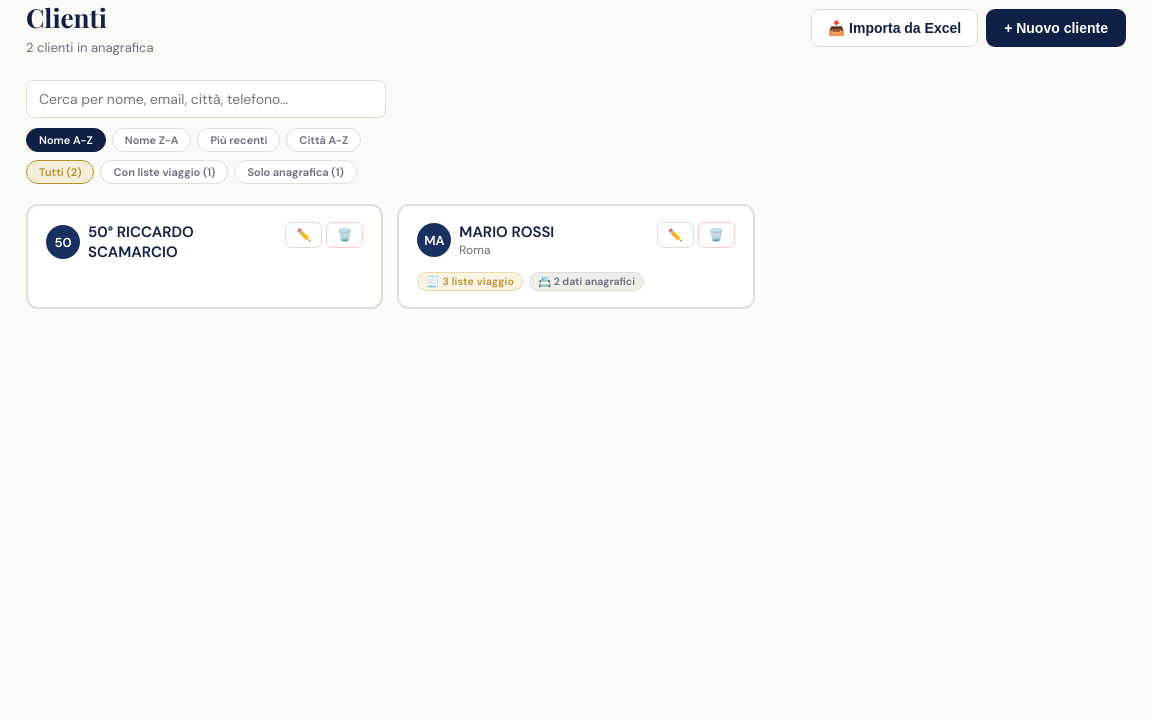
Anagrafica — modifica di un nome condiviso › finché il nome non cambia, avvisa senza allarmare
Expected: the text "🧾 3 liste viaggio" is shown, [417,272,523,291]
What coordinates should you click on to do the following:
click the 2nd button "✏️"
I would click on:
 (675, 235)
Its box is [657,222,694,248].
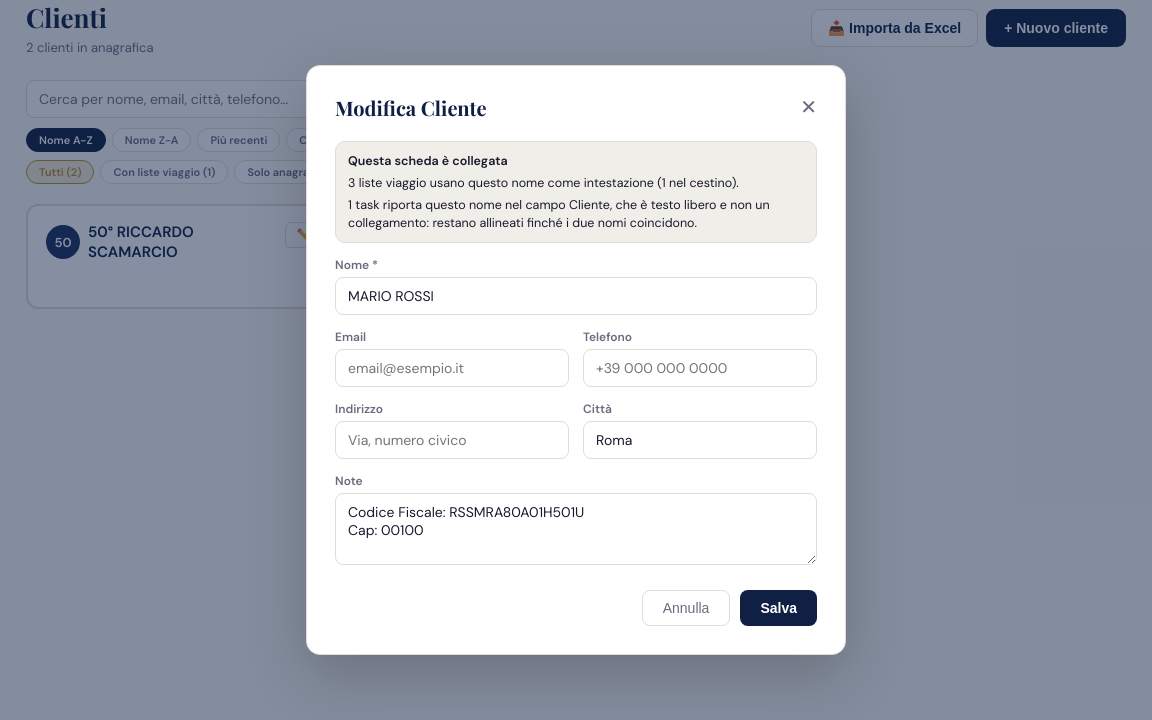
Expected: the text "Questa scheda è collegata" is shown, [348,153,508,169]
Expected: the text "3 liste viaggio usano" is shown, [348,175,465,191]
